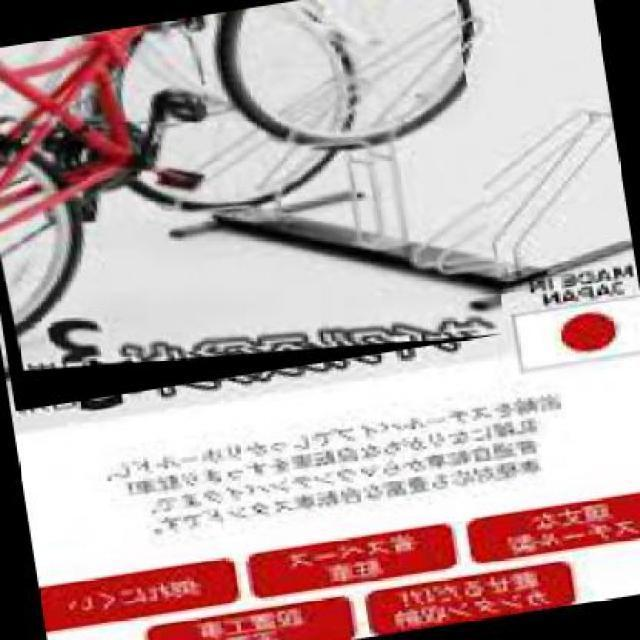bicycle: (1, 1, 508, 413)
